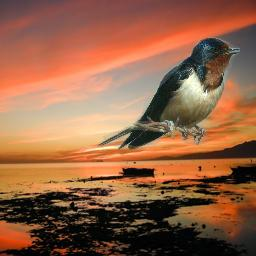Swallow: (97, 37, 240, 150)
